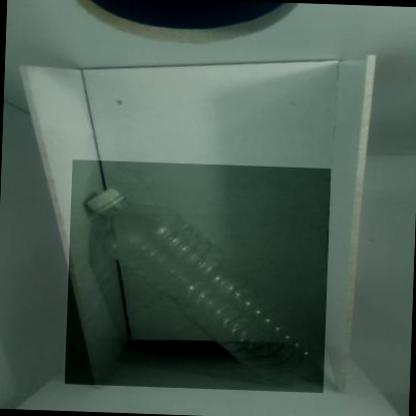plastic_bottles: (64, 160, 330, 393)
